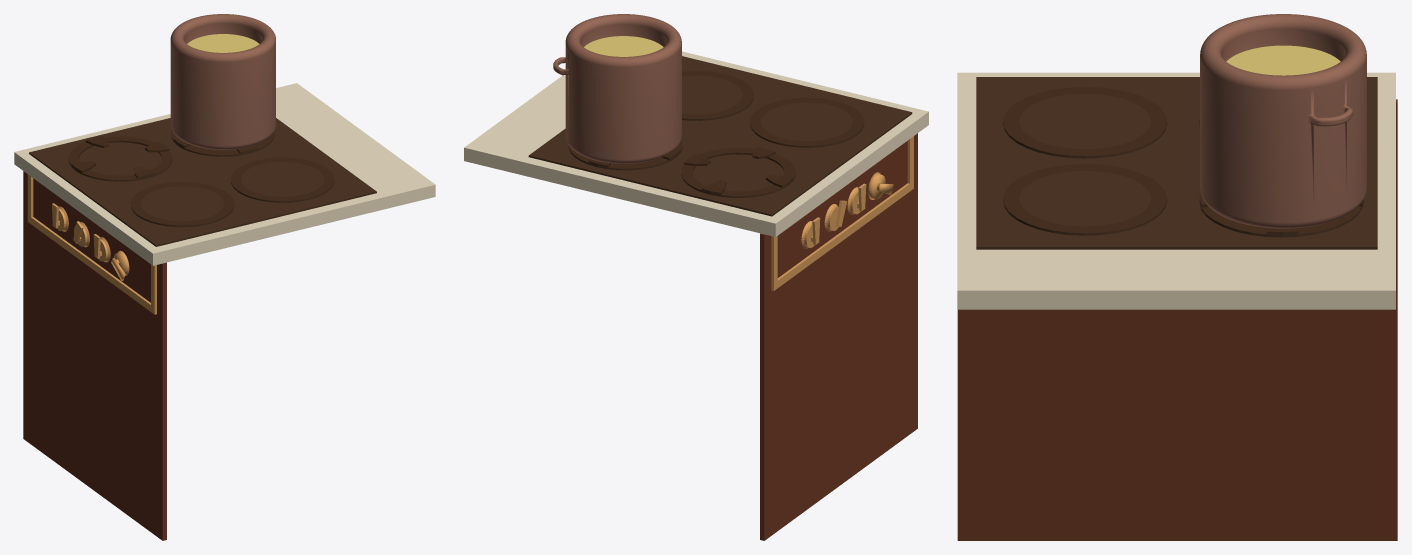
The model's file is heat_zone.fbx.
The picture shows the model from 3 angles, left to right: view 1: azimuth 30°, elevation 25°; view 2: azimuth 150°, elevation 25°; view 3: azimuth 270°, elevation 25°; orthographic projection. The views are drawn at different scales.
Parts seen in each view (by area): view 1: wood_pannel, inox_table, heat_support, marmite, heat_point_1, heat_point2, gas_heat_point2, Cube.012, liquid, gas_heat_point; view 2: wood_pannel, heat_support, marmite, inox_table, heat_point2, heat_point_1, gas_heat_point2, Cube.012, liquid, gas_heat_point; view 3: wood_pannel, inox_table, marmite, heat_support, heat_point_1, heat_point2, liquid, gas_heat_point.
Boxes of the visible parts, x1,y1,x2,y2 form: wood_pannel: (23, 171, 166, 540); inox_table: (14, 83, 435, 265); heat_support: (29, 118, 376, 246); marmite: (170, 14, 275, 149); heat_point_1: (231, 157, 334, 202); heat_point2: (130, 182, 234, 227); gas_heat_point2: (68, 136, 172, 181); Cube.012: (31, 217, 150, 311); liquid: (187, 34, 259, 52); gas_heat_point: (171, 130, 274, 156); wood_pannel: (760, 133, 917, 540); heat_support: (528, 56, 912, 216); marmite: (553, 14, 681, 163); inox_table: (464, 51, 928, 236); heat_point2: (750, 97, 864, 147); heat_point_1: (682, 71, 753, 120); gas_heat_point2: (681, 147, 795, 197); Cube.012: (777, 183, 909, 287); liquid: (584, 36, 663, 56); gas_heat_point: (568, 140, 682, 170); wood_pannel: (957, 99, 1397, 540); inox_table: (957, 72, 1395, 309); marmite: (1200, 14, 1366, 228); heat_support: (976, 77, 1377, 249); heat_point_1: (1003, 164, 1167, 235); heat_point2: (1003, 87, 1167, 158); liquid: (1226, 45, 1340, 75); gas_heat_point: (1199, 193, 1363, 237).
Size of the model in its own units: 13631 by 18030 by 11641.
